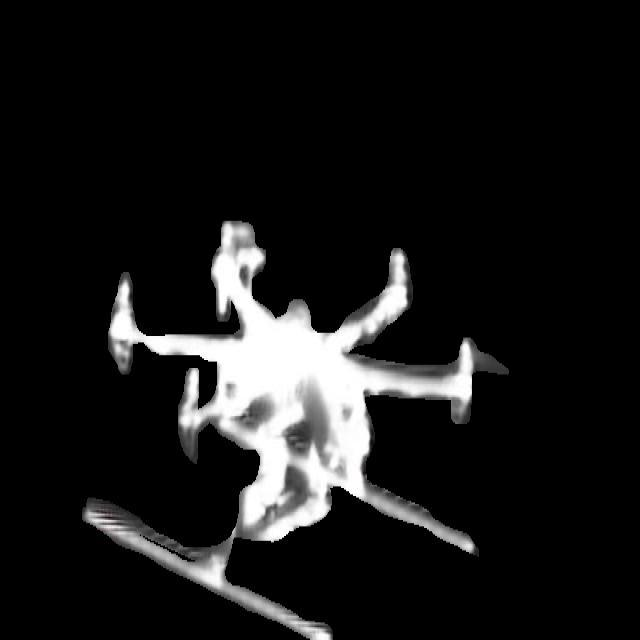drone: (75, 185, 524, 640)
